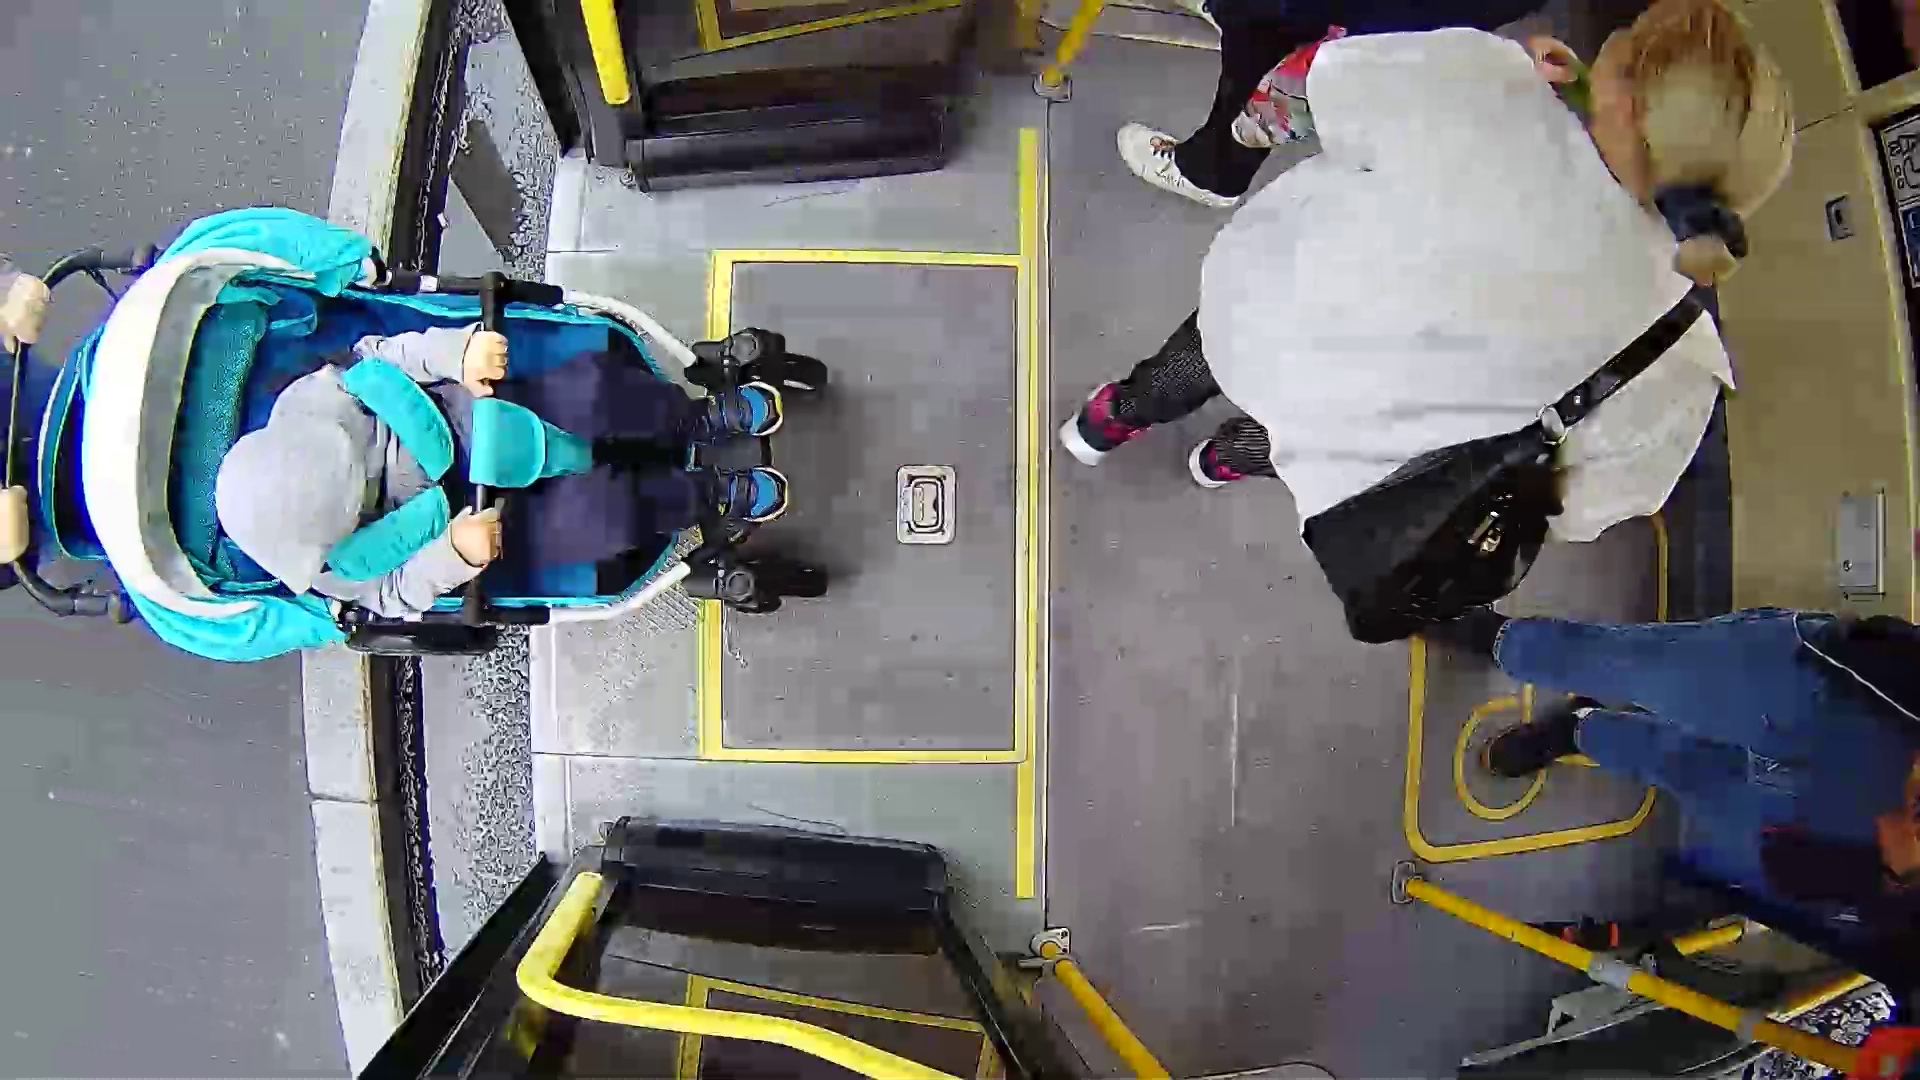person: (1070, 44, 1855, 633), (41, 195, 852, 701)
